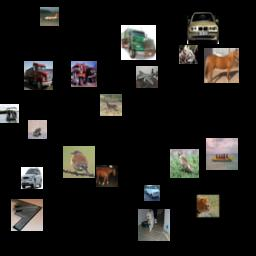airplane: (11, 199, 43, 231), (136, 66, 158, 88), (40, 7, 59, 26)
automobile: (187, 12, 219, 44), (21, 167, 43, 189), (144, 185, 160, 201)
bird: (63, 146, 95, 178), (170, 149, 199, 178)
cat: (195, 193, 221, 219), (179, 45, 198, 64)
deer: (100, 94, 122, 116)
dog: (138, 209, 170, 241)
frog: (28, 120, 47, 139)
ship: (206, 138, 238, 170), (0, 104, 19, 123)
truck: (121, 25, 156, 60), (24, 61, 53, 90), (71, 61, 97, 87)
